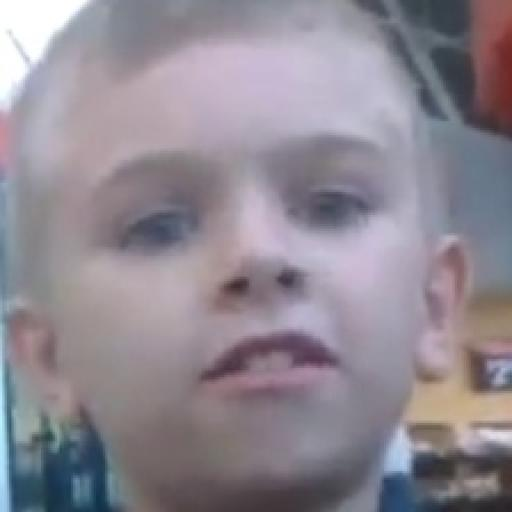Autism: (24, 1, 492, 512)
